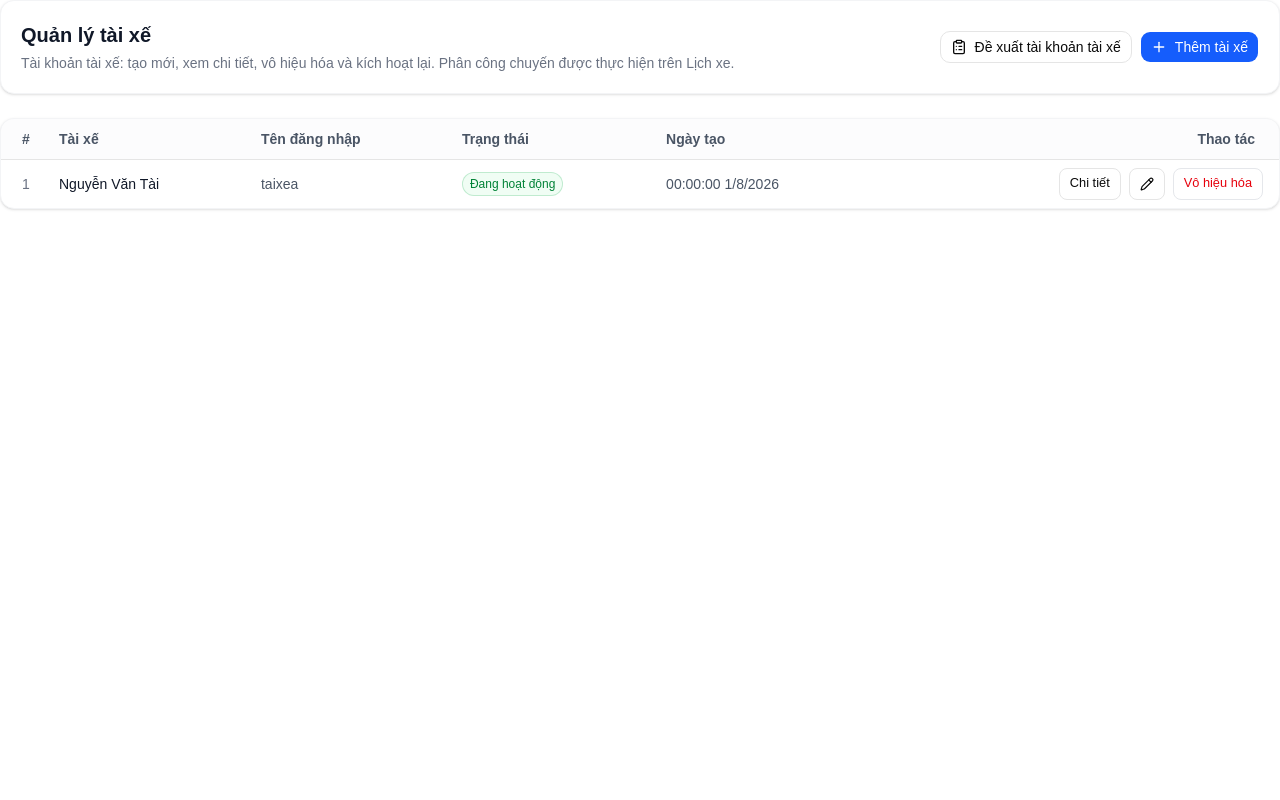
Test case: DriverManagementPage › creating a driver › ★ opens the shared account dialog on "driver", sends the three fields, refreshes the list and never shows the password
Expected: the text "Nguyễn Văn Tài" is shown, [51, 159, 253, 208]
Click the button "Thêm tài xế" at (1199, 47), box [1140, 31, 1259, 63]
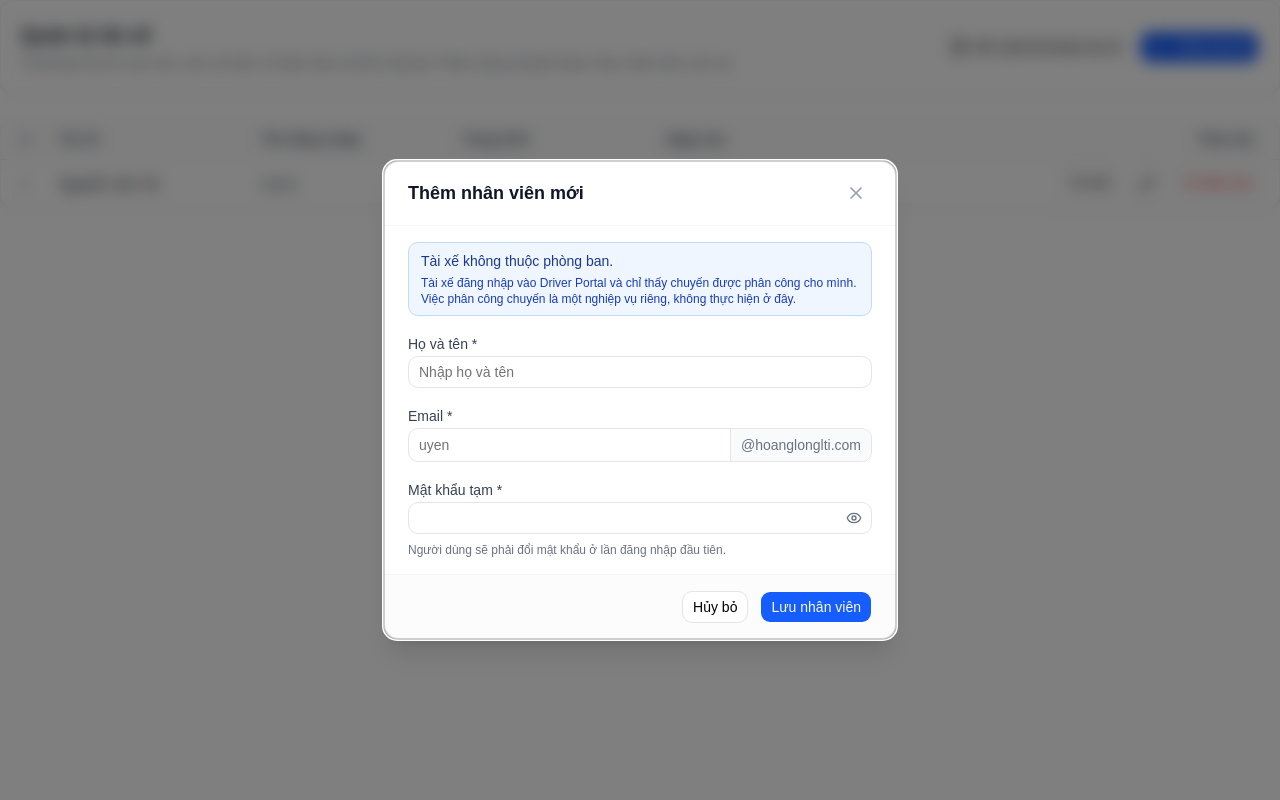
Type "Lê Văn Mới" into the field labelled "Họ và tên *" at (640, 372), box [408, 356, 872, 388]
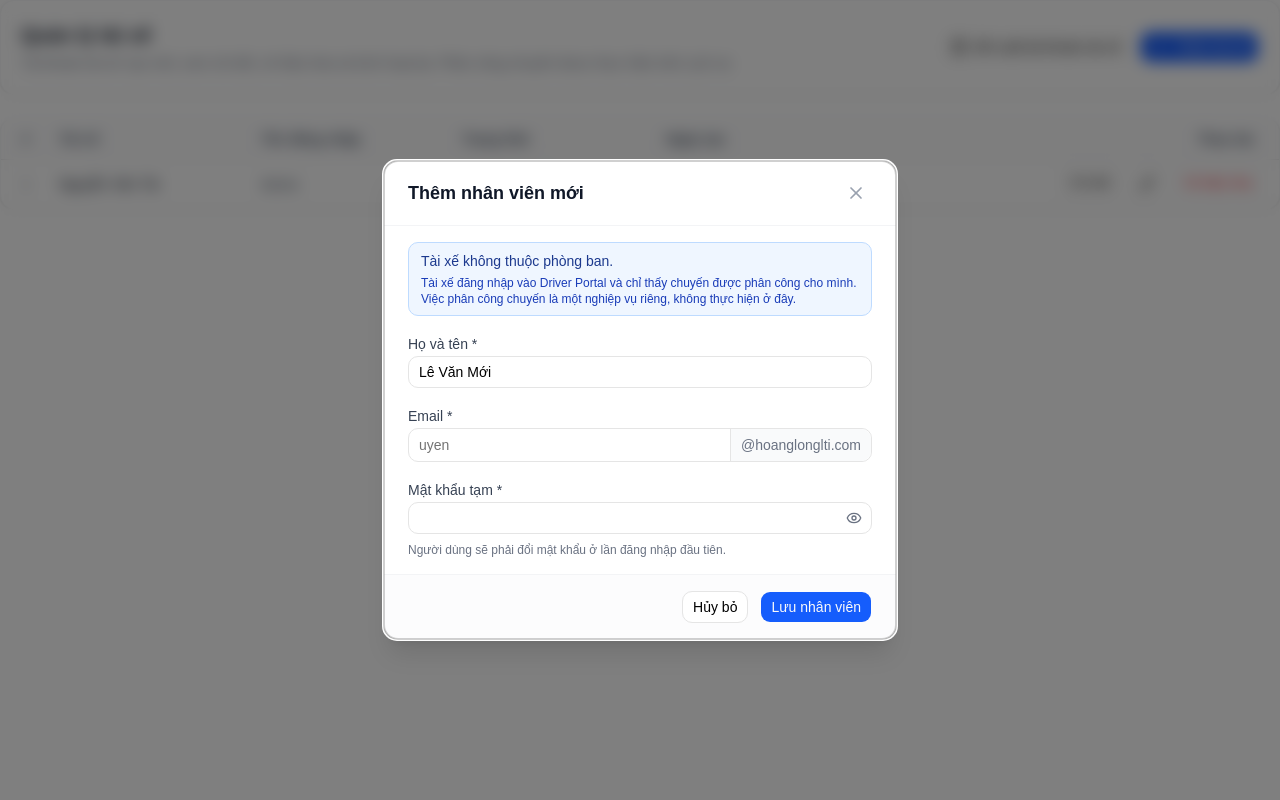
Type "levanmoi" into the field labelled "Email *" at (569, 445), box [409, 429, 730, 461]
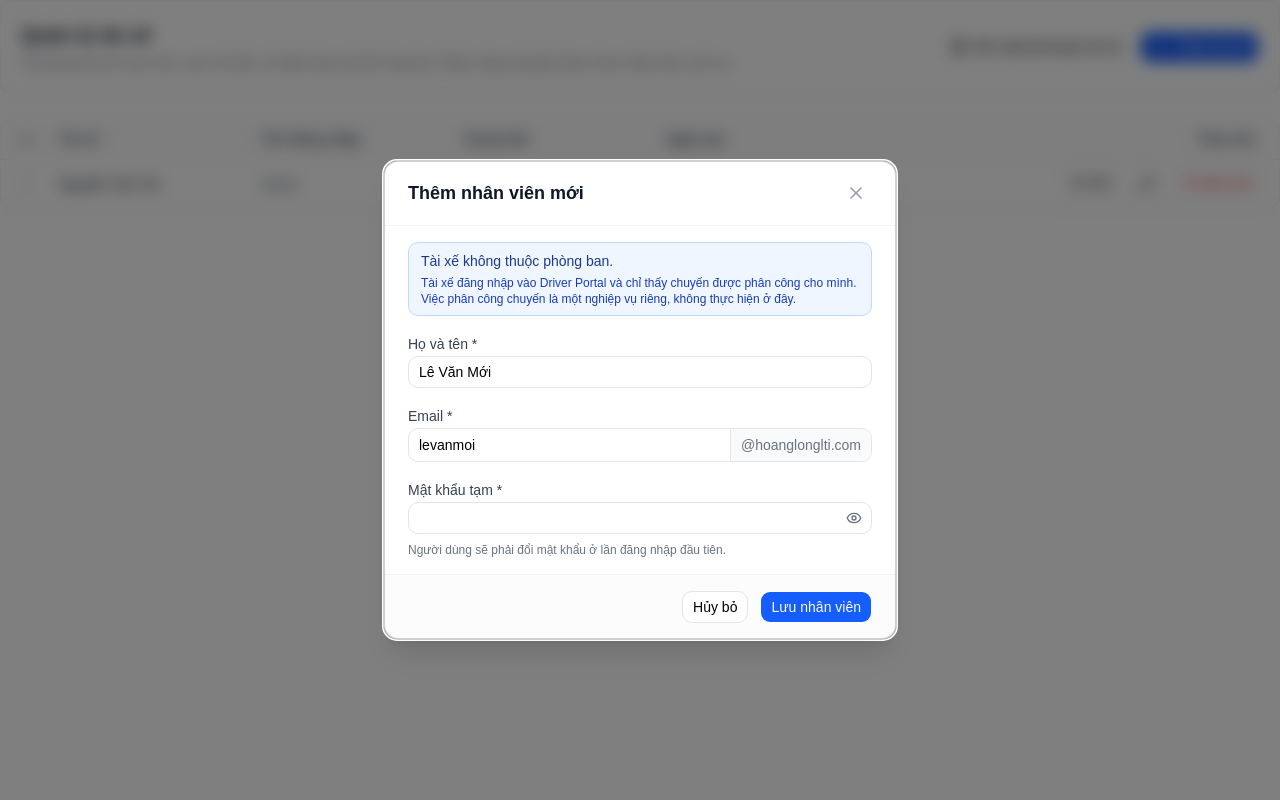
Type "Tam-2026!" into the password field labelled "Mật khẩu tạm *" at (640, 518), box [408, 502, 872, 534]
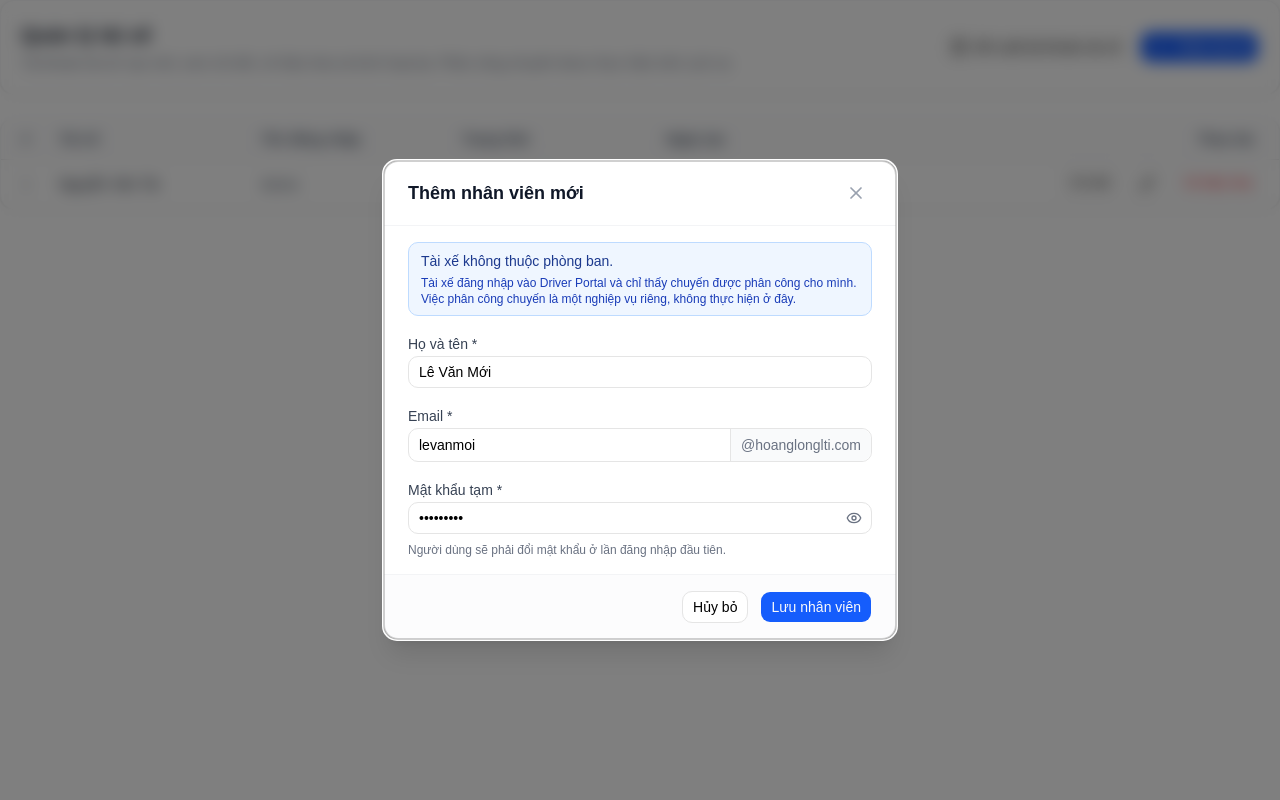
Click the button "Lưu nhân viên" at (816, 607), box [760, 591, 872, 623]
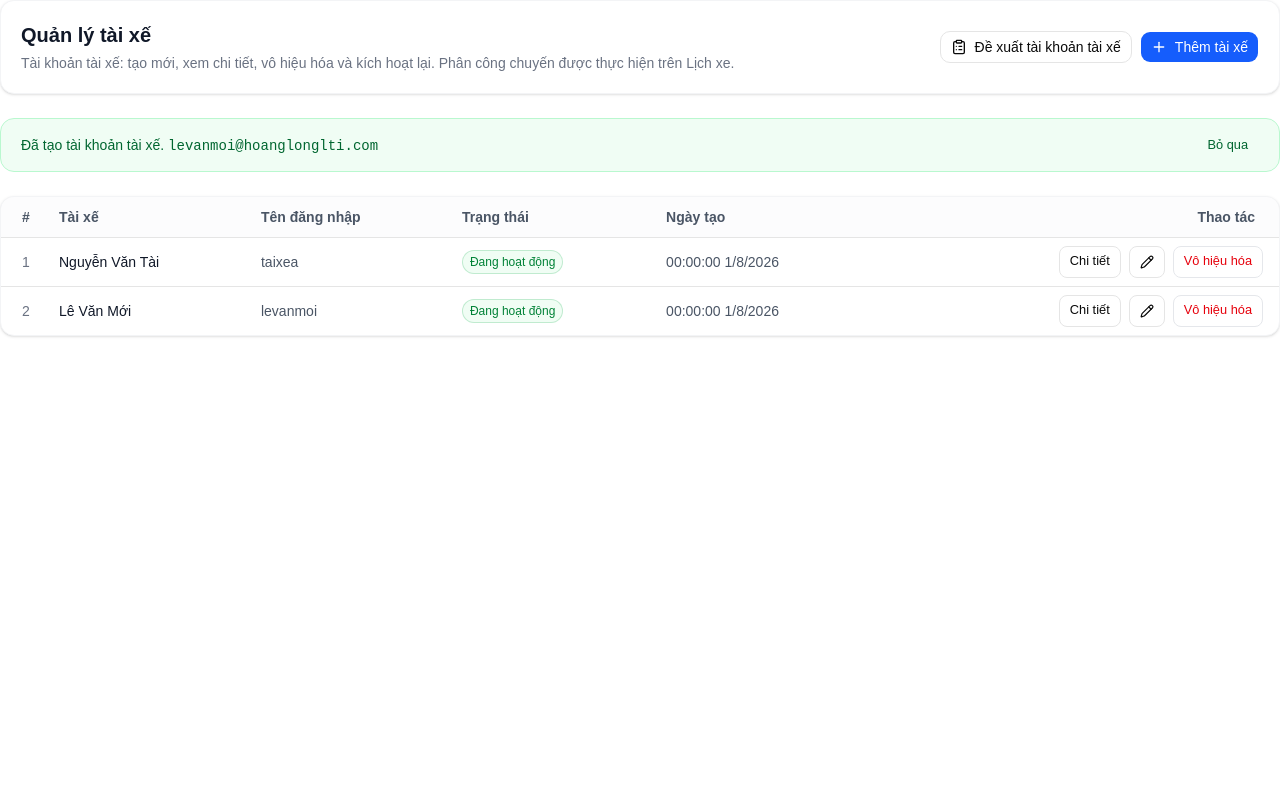
Expected: the element showing "Đã tạo tài khoản tài xế. levanmoi@hoanglonglti.com Bỏ qua" is shown, [0, 118, 1279, 172]
Expected: the dialog is gone
Expected: the text "Lê Văn Mới" is shown, [51, 286, 253, 334]
